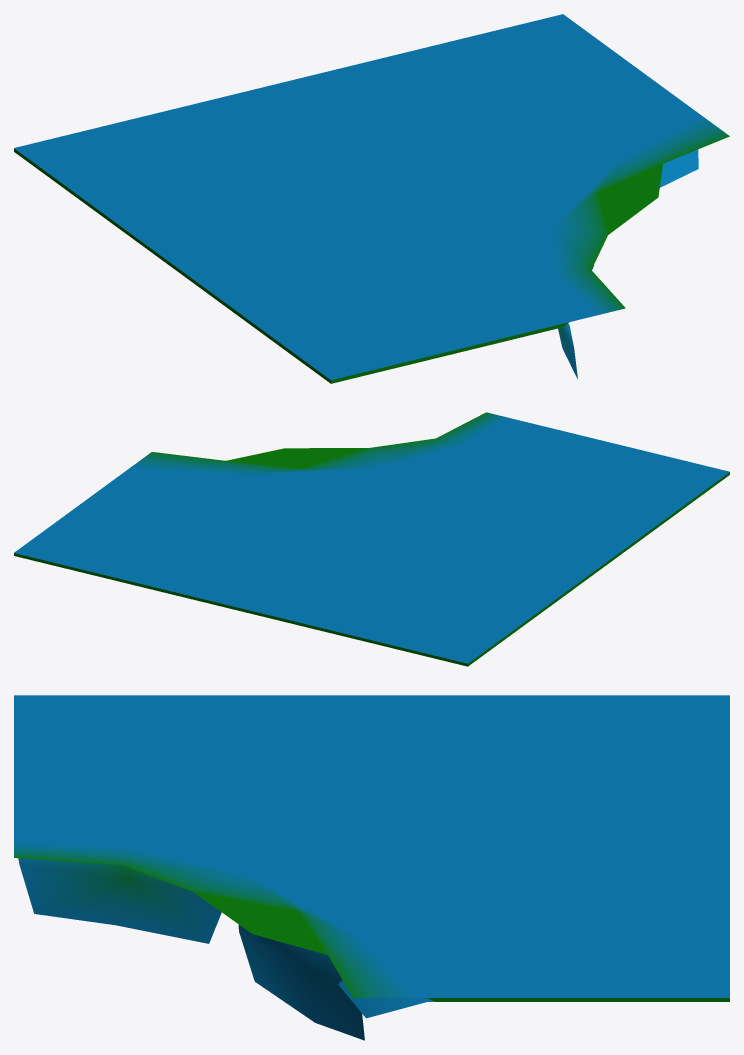
Rendered from DBK_Drywall_Ceiling_90_B.fbx.
The picture shows the model from 3 angles, top to bottom: view 1: azimuth 30°, elevation 25°; view 2: azimuth 150°, elevation 25°; view 3: azimuth 270°, elevation 25°; orthographic projection. The views are drawn at different scales.
Parts seen in each view (by area): view 1: DBK_Drywall_Ceiling_90_B; view 2: DBK_Drywall_Ceiling_90_B; view 3: DBK_Drywall_Ceiling_90_B.
Part boxes in pixels (x1,y1,x2,y2): DBK_Drywall_Ceiling_90_B: (14, 14, 729, 383); DBK_Drywall_Ceiling_90_B: (14, 412, 729, 666); DBK_Drywall_Ceiling_90_B: (14, 695, 729, 1040).
Size of what is drawn, in the model's own units: 300 by 53.17 by 300.
